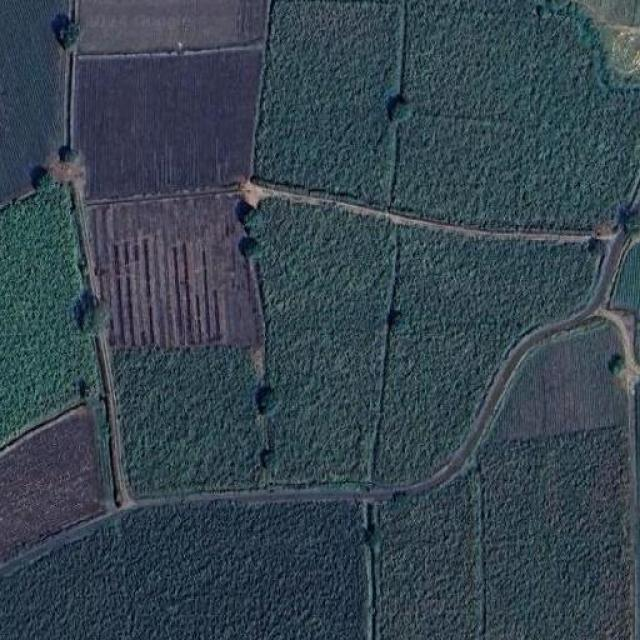land-Sx1C: (374, 228, 601, 486), (394, 0, 640, 228), (0, 502, 364, 640), (256, 201, 389, 482), (481, 423, 634, 639), (74, 48, 261, 199), (258, 0, 398, 201), (86, 194, 259, 349), (0, 176, 98, 444), (114, 349, 262, 495), (0, 405, 102, 562), (494, 322, 628, 441), (380, 475, 472, 640), (0, 0, 70, 204), (79, 0, 269, 53), (577, 0, 640, 82), (611, 242, 640, 361)
